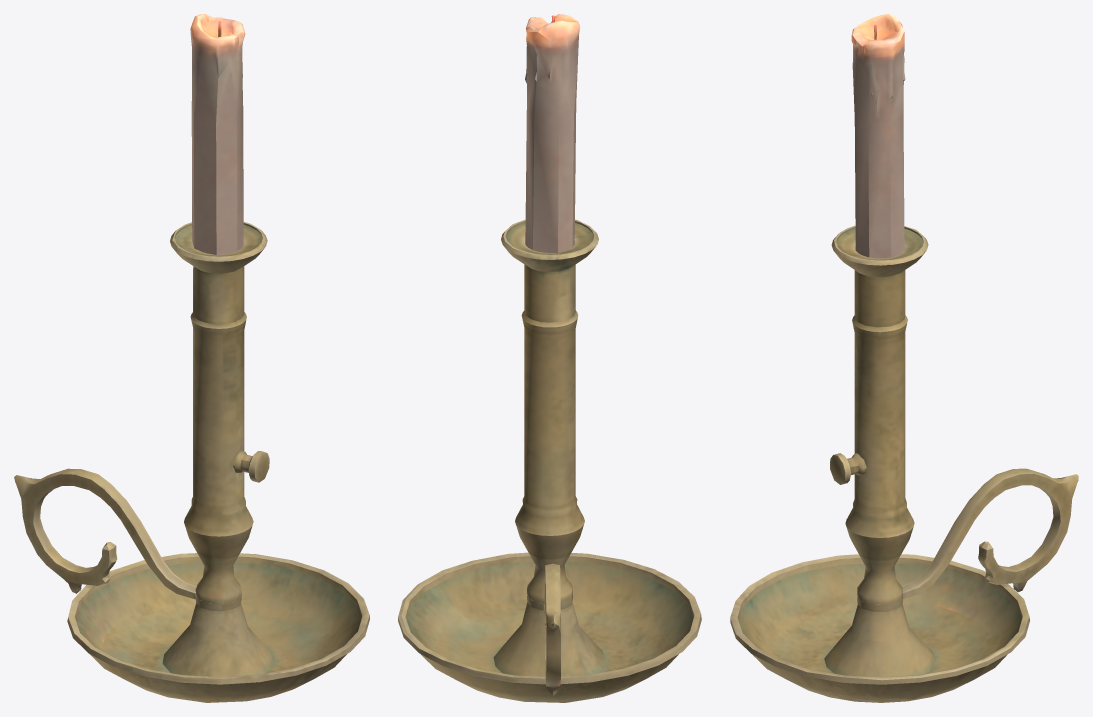
The model's file is candlestick-brass-b.glb.
3 renders of one model, left to right at view 1: azimuth 30°, elevation 25°; view 2: azimuth 150°, elevation 25°; view 3: azimuth 270°, elevation 25°, orthographic.
Visible parts, largest first — view 1: candlestick-brass-b; view 2: candlestick-brass-b; view 3: candlestick-brass-b.
Boxes of the visible parts, box(x1,y1,x2,y2) form: candlestick-brass-b: box(14, 14, 369, 702); candlestick-brass-b: box(398, 14, 701, 702); candlestick-brass-b: box(730, 14, 1078, 702).
Bounding box in the file's own units: 0.1241 × 0.2955 × 0.1442.
1 material, 1 textured.
